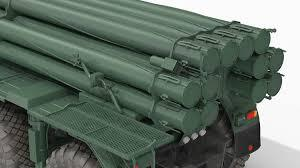MIL_SAM_TEL: (0, 0, 287, 168)
